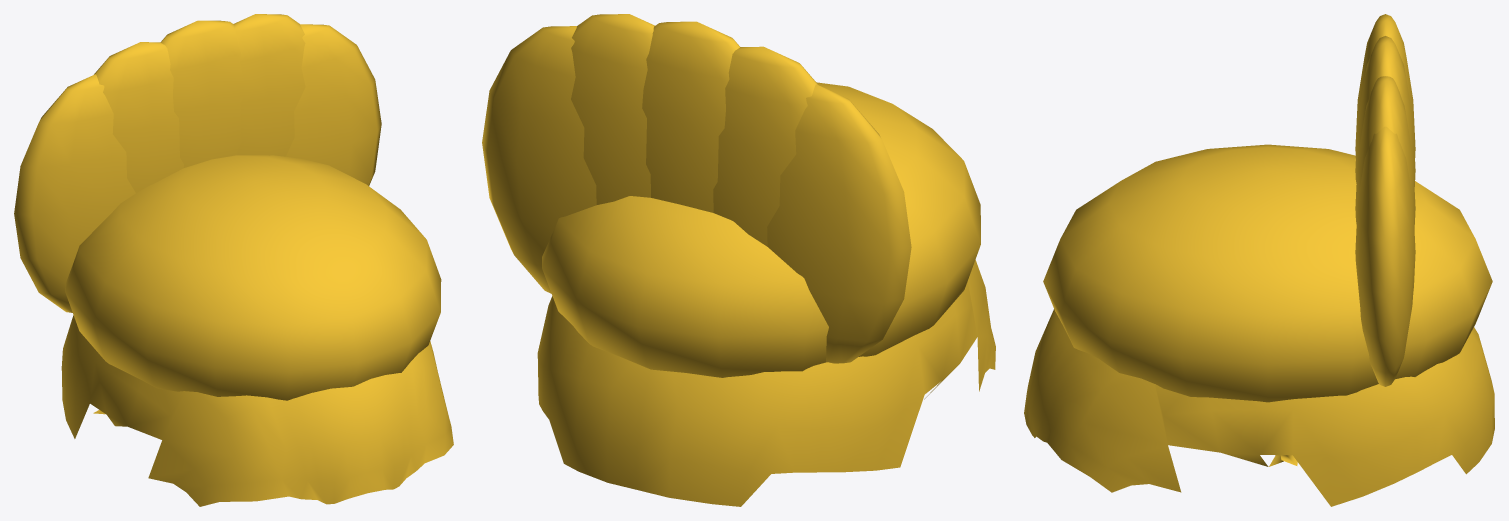
File: hair-gele.glb
3 views of the same model, side by side, from view 1: azimuth 30°, elevation 25°; view 2: azimuth 150°, elevation 25°; view 3: azimuth 270°, elevation 25° (orthographic). The views are drawn at different scales.
Parts seen in each view (by area): view 1: gele; view 2: gele; view 3: gele.
Boxes of the visible parts, box(x1,y1,x2,y2) form: gele: box(14, 14, 453, 506); gele: box(482, 14, 995, 506); gele: box(1024, 14, 1494, 506).
Bounding box in the file's own units: 0.2399 × 0.2301 × 0.2503.
